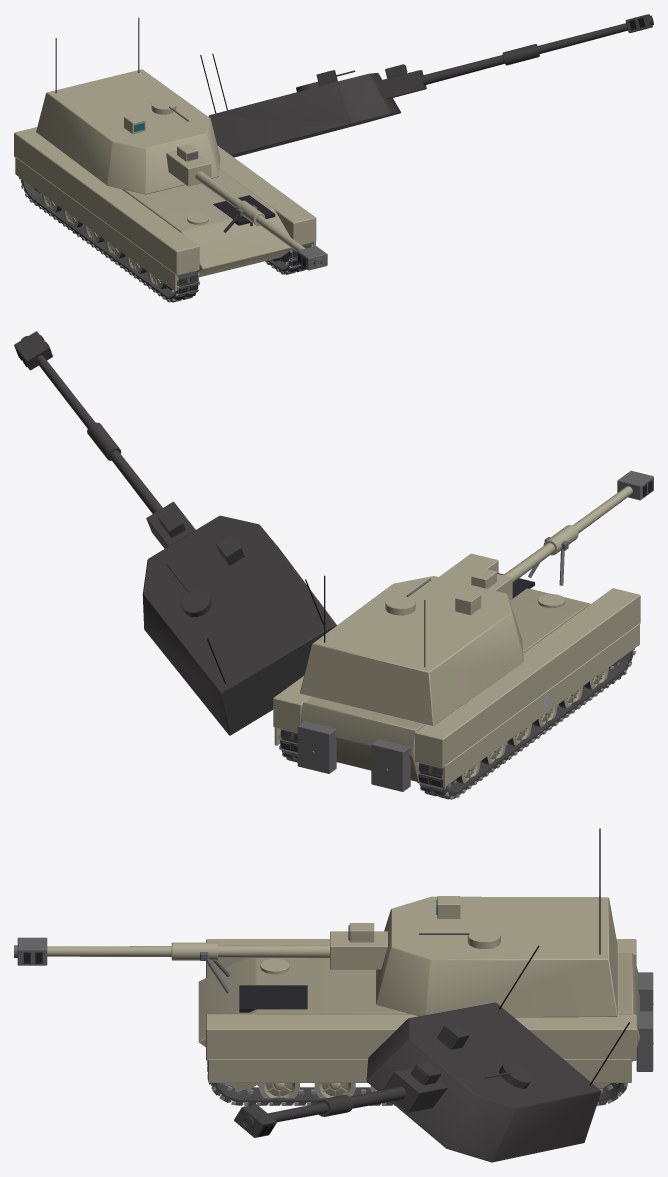
Rendered from k9__k9_thunder.glb.
The picture shows the model from 3 angles, top to bottom: view 1: azimuth 30°, elevation 25°; view 2: azimuth 150°, elevation 25°; view 3: azimuth 270°, elevation 25°; orthographic projection. The views are drawn at different scales.
Parts seen in each view (by area): view 1: Hull_Mesh, Turret_Mesh, Wreck, Gun_Mesh, Track_L_Mesh, Track_R_Mesh; view 2: Wreck, Hull_Mesh, Turret_Mesh, Gun_Mesh, Track_L_Mesh; view 3: Hull_Mesh, Wreck, Turret_Mesh, Gun_Mesh, Track_R_Mesh, Wheel_R5_Mesh, Wheel_R4_Mesh.
Part boxes in pixels (x1=…): Hull_Mesh: x1=14, y1=127, x2=316, y2=291; Turret_Mesh: x1=36, y1=17, x2=220, y2=194; Wreck: x1=19, y1=14, x2=653, y2=301; Gun_Mesh: x1=166, y1=143, x2=327, y2=270; Track_L_Mesh: x1=19, y1=177, x2=199, y2=302; Track_R_Mesh: x1=265, y1=243, x2=313, y2=274; Wreck: x1=14, y1=331, x2=635, y2=798; Hull_Mesh: x1=273, y1=537, x2=640, y2=791; Turret_Mesh: x1=300, y1=575, x2=523, y2=725; Gun_Mesh: x1=467, y1=470, x2=653, y2=600; Track_L_Mesh: x1=417, y1=648, x2=635, y2=799; Hull_Mesh: x1=198, y1=939, x2=653, y2=1082; Wreck: x1=207, y1=945, x2=629, y2=1162; Turret_Mesh: x1=376, y1=828, x2=617, y2=1017; Gun_Mesh: x1=14, y1=923, x2=387, y2=969; Track_R_Mesh: x1=207, y1=1061, x2=627, y2=1105; Wheel_R5_Mesh: x1=259, y1=1083, x2=299, y2=1104; Wheel_R4_Mesh: x1=314, y1=1083, x2=355, y2=1098.
Size of what is drawn, in the model's own units: 12.72 by 4.15 by 10.78.
